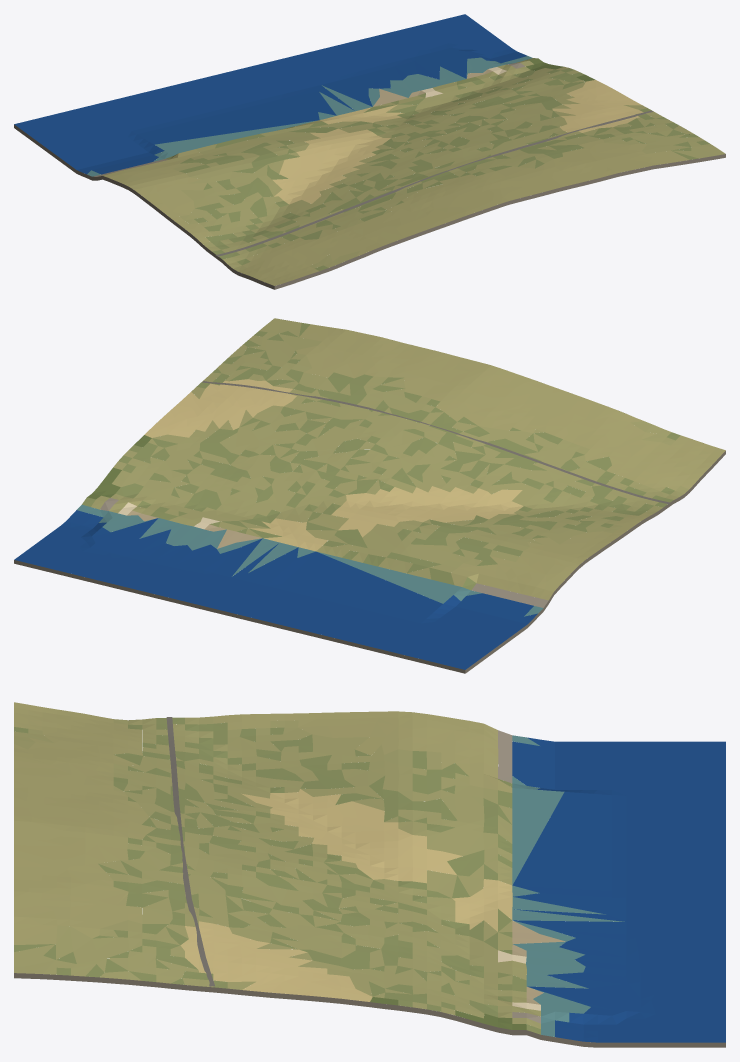
The model's file is parca_+1_+2-uzak.glb.
3 renders of one model, top to bottom at view 1: azimuth 30°, elevation 25°; view 2: azimuth 150°, elevation 25°; view 3: azimuth 270°, elevation 25°, orthographic. The views are drawn at different scales.
Visible parts, largest first — view 1: parca_+1_+2_arazi_uzak, parca_+1_+2_yollar_uzak; view 2: parca_+1_+2_arazi_uzak, parca_+1_+2_yollar_uzak; view 3: parca_+1_+2_arazi_uzak, parca_+1_+2_yollar_uzak.
Part boxes in pixels (box(x1,y1,x2,y2)): parca_+1_+2_arazi_uzak: box(14, 14, 725, 289); parca_+1_+2_yollar_uzak: box(216, 110, 653, 256); parca_+1_+2_arazi_uzak: box(14, 318, 725, 673); parca_+1_+2_yollar_uzak: box(202, 381, 670, 503); parca_+1_+2_arazi_uzak: box(14, 702, 725, 1047); parca_+1_+2_yollar_uzak: box(166, 717, 214, 986).
Bounding box in the file's own units: 1002 × 131 × 1000.
